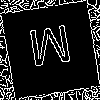M: (26, 25, 76, 76)
